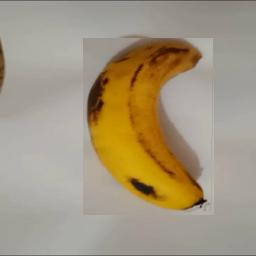Banana Semifresh: (84, 38, 215, 215)
